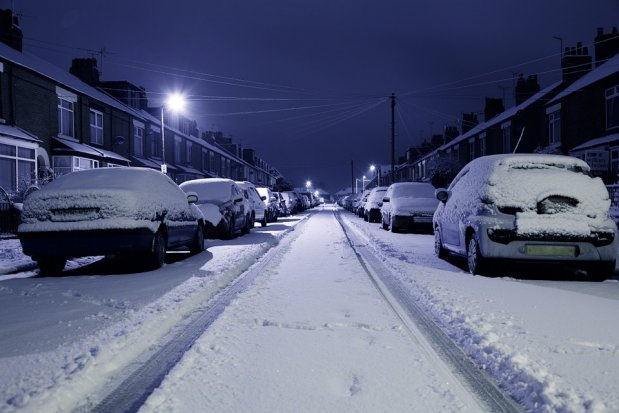car: (432, 154, 618, 278), (20, 167, 205, 269), (183, 178, 252, 238), (382, 182, 436, 232)
